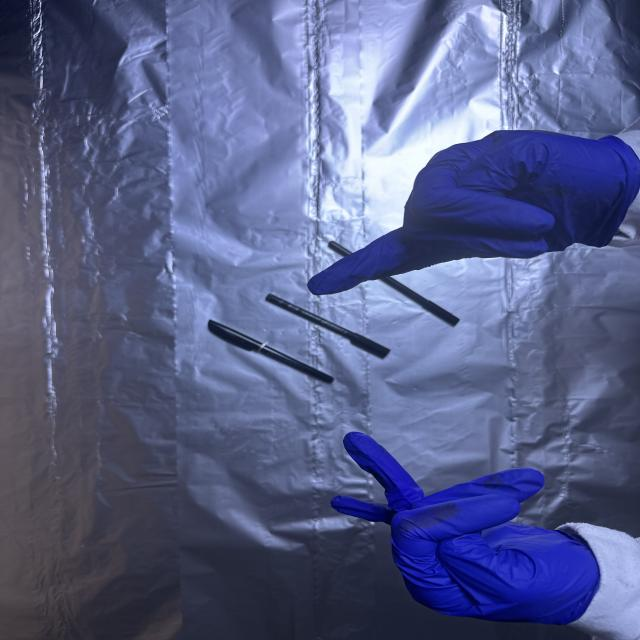gloves_contaminated: (308, 131, 640, 295), (332, 432, 602, 624)
